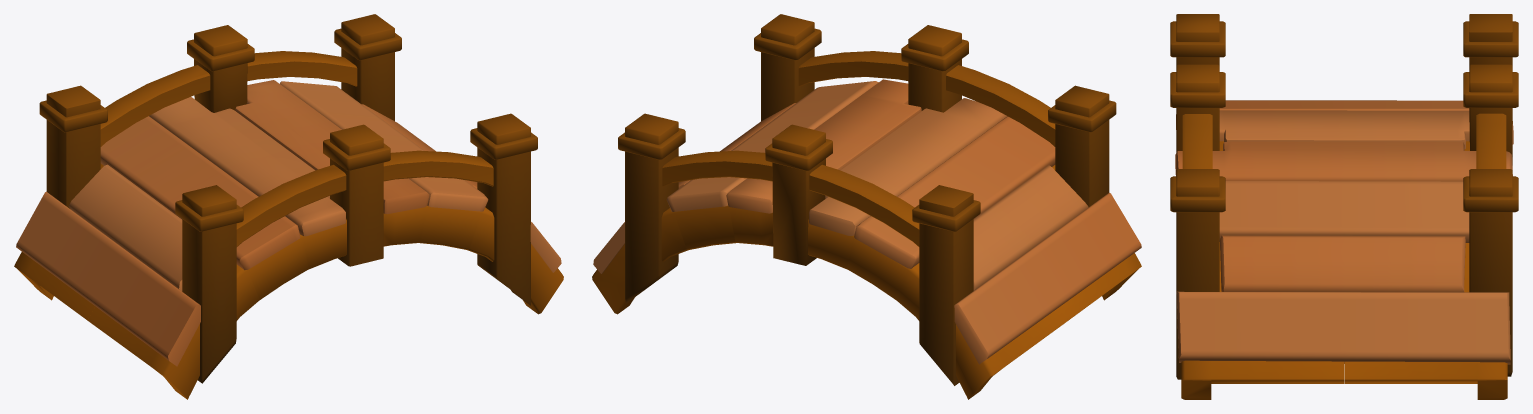
The model's file is M_Arch_01.fbx.
The picture shows the model from 3 angles, left to right: view 1: azimuth 30°, elevation 25°; view 2: azimuth 150°, elevation 25°; view 3: azimuth 270°, elevation 25°; orthographic projection. The views are drawn at different scales.
Parts seen in each view (by area): view 1: Bridge_Low1; view 2: Bridge_Low1; view 3: Bridge_Low1.
Part boxes in pixels (bbox=[...]): Bridge_Low1: bbox=[14, 14, 563, 399]; Bridge_Low1: bbox=[592, 14, 1141, 399]; Bridge_Low1: bbox=[1170, 14, 1518, 399].
Bounding box in the file's own units: 700 × 362 × 487.
Materials: 1 (1 with a texture image).
